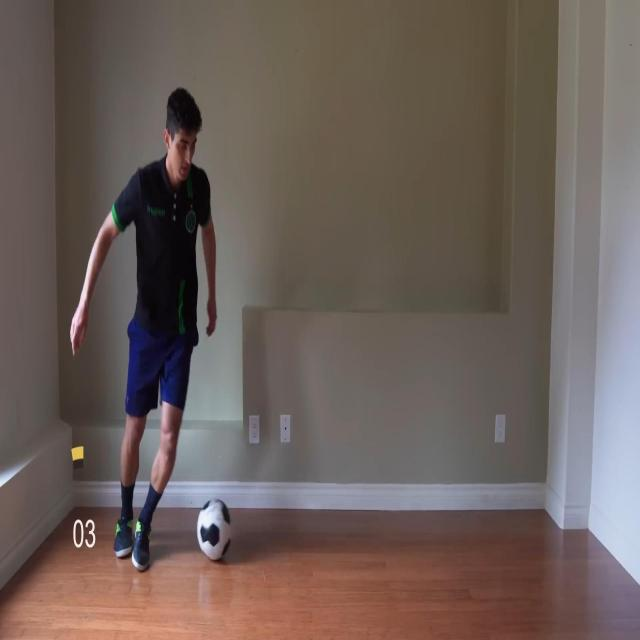Soccer Ball: (197, 498, 232, 561)
